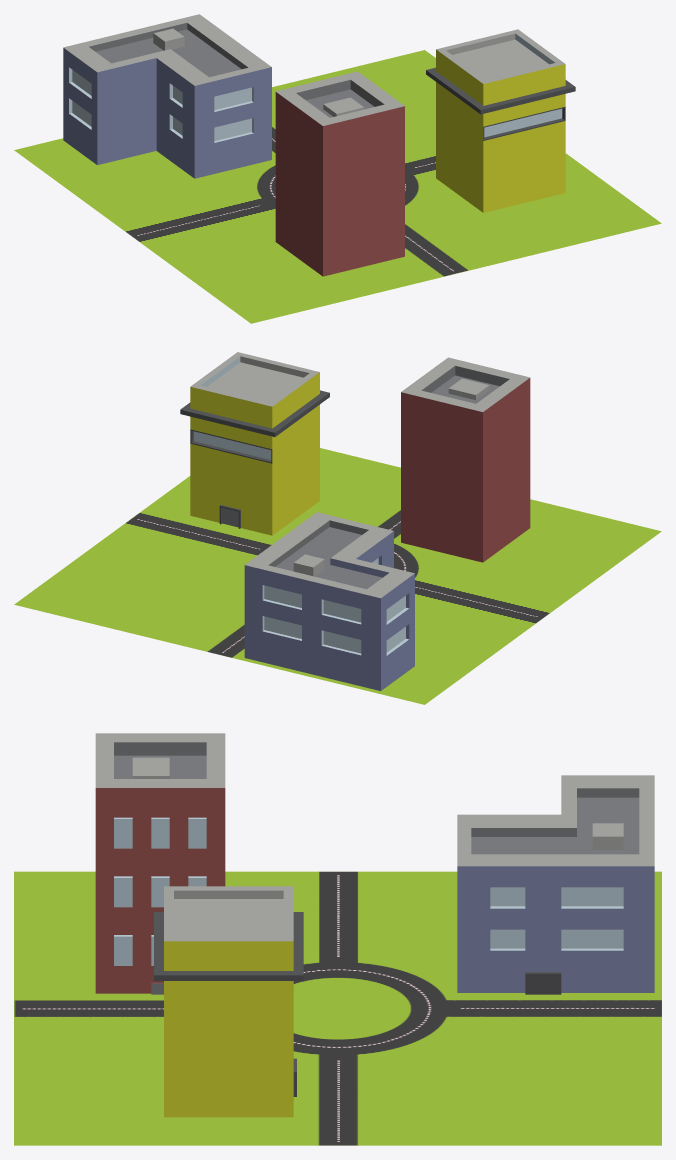
The model's file is Buildings_2.fbx.
The picture shows the model from 3 angles, top to bottom: view 1: azimuth 30°, elevation 25°; view 2: azimuth 150°, elevation 25°; view 3: azimuth 270°, elevation 25°; orthographic projection. The views are drawn at different scales.
Visible parts, largest first — view 1: Plane, level_2_3, level_2_2, level_2_1; view 2: Plane, level_2_3, level_2_2, level_2_1; view 3: Plane, level_2_3, level_2_1, level_2_2.
Part boxes in pixels (<box>): Plane: <box>14,50,661,323</box>; level_2_3: <box>63,14,271,178</box>; level_2_2: <box>275,71,404,276</box>; level_2_1: <box>426,29,575,212</box>; Plane: <box>14,448,661,704</box>; level_2_3: <box>244,512,414,690</box>; level_2_2: <box>401,357,530,562</box>; level_2_1: <box>180,352,329,535</box>; Plane: <box>14,871,661,1145</box>; level_2_3: <box>457,775,654,994</box>; level_2_1: <box>154,886,303,1117</box>; level_2_2: <box>95,733,225,994</box>.
Size of the model in its own units: 20 by 7.02 by 20.
Materials: 8 (1 with a texture image).
